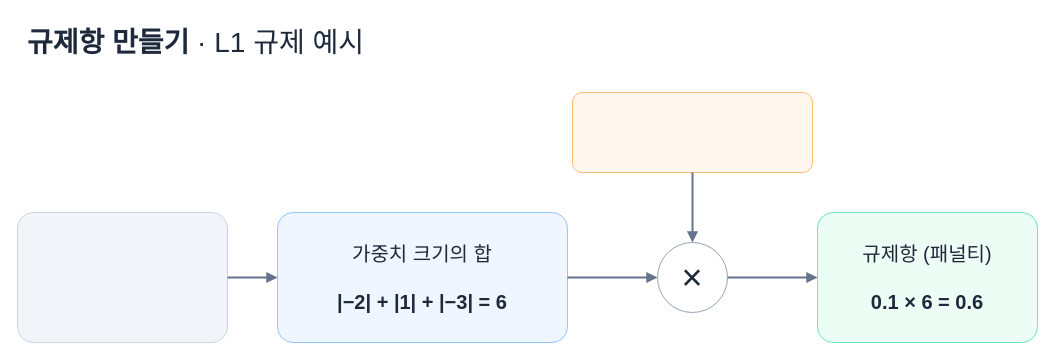
Some shapes in this 1055 by 360 pixel diagram are drawn without their labels. Here are the shapes that lost their labels. From the top down, the centre of each, then its label:
At [692,132]: "사람이 정하는 규제 강도 λ = 0.1".
At [122,277]: "가중치 −2, 1, −3".
